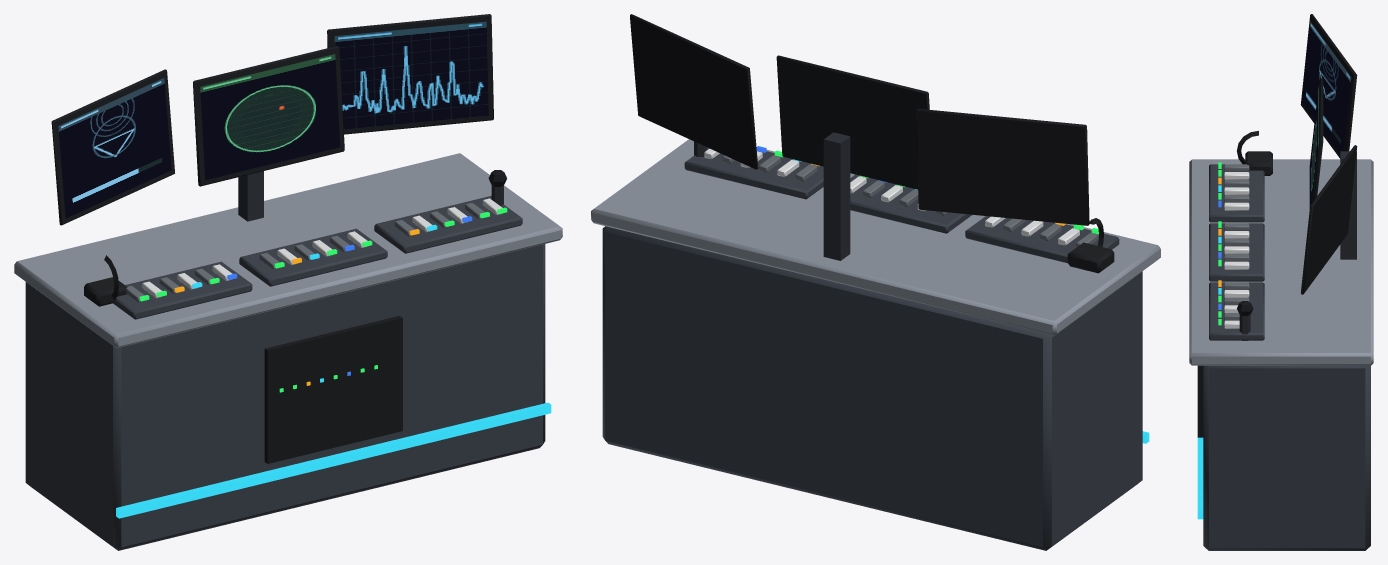
The model's file is commsunit_comms_console.glb.
3 renders of one model, left to right at view 1: azimuth 30°, elevation 25°; view 2: azimuth 150°, elevation 25°; view 3: azimuth 270°, elevation 25°, orthographic. The views are drawn at different scales.
Parts seen in each view (by area): view 1: commsunit_comms_console; view 2: commsunit_comms_console; view 3: commsunit_comms_console.
Part boxes in pixels (x1,y1,x2,y2): commsunit_comms_console: [14, 14, 562, 550]; commsunit_comms_console: [591, 14, 1160, 550]; commsunit_comms_console: [1189, 14, 1373, 550].
Size of the model in its own units: 1.66 by 1.38 by 0.66.
14 materials, 3 textured.
